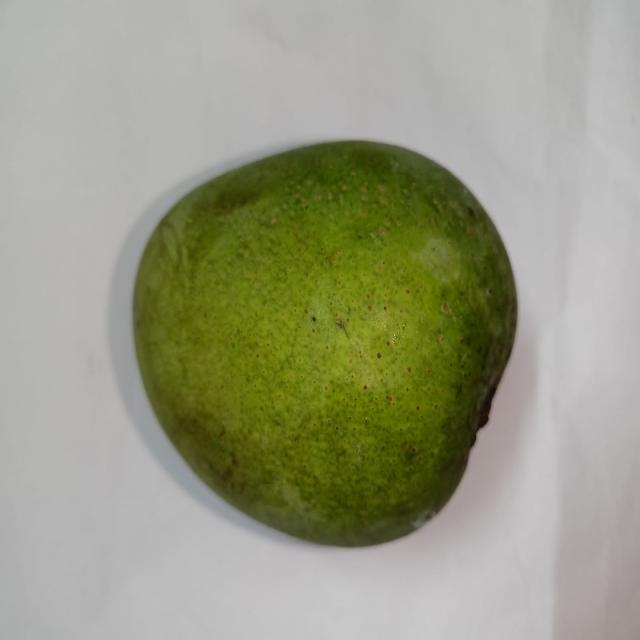fresh_mango: (130, 138, 518, 548)
